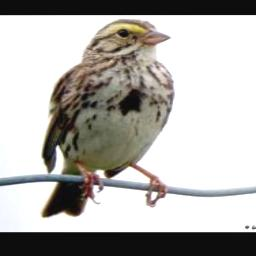Sparrow: (37, 17, 176, 218)
